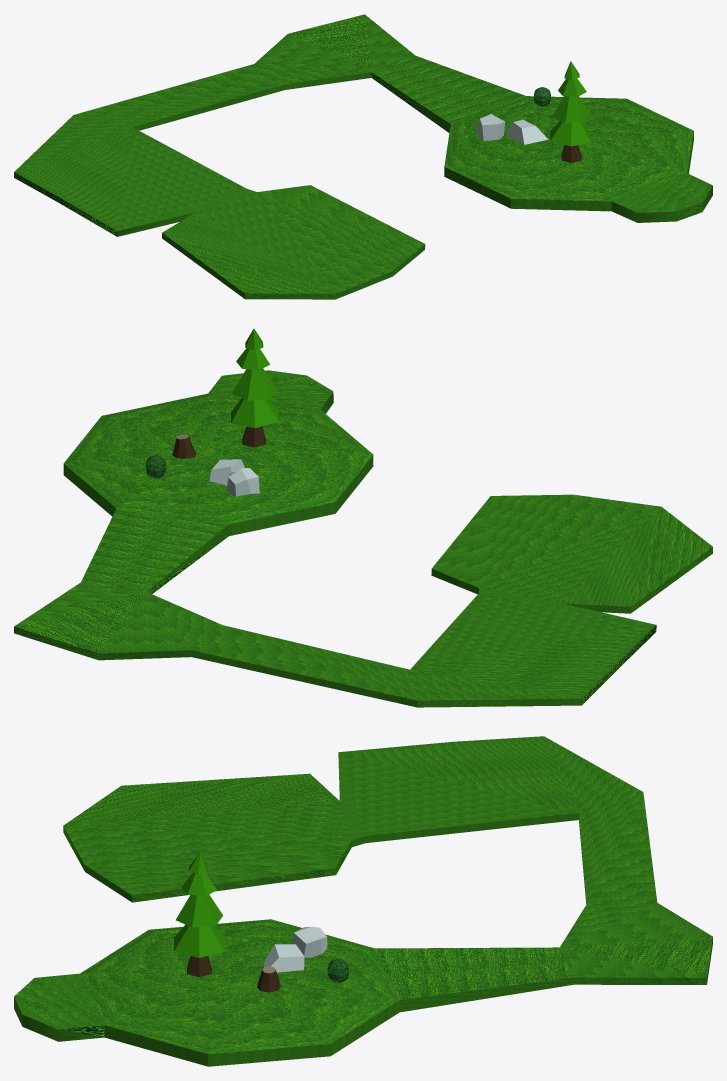
Rendered from tempmap.fbx.
3 renders of one model, top to bottom at view 1: azimuth 30°, elevation 25°; view 2: azimuth 150°, elevation 25°; view 3: azimuth 270°, elevation 25°, orthographic. The views are drawn at different scales.
Parts seen in each view (by area): view 1: pSphere1, pCylinder1, experiment_rock:pPlatonic1, pPlatonic1; view 2: pSphere1, pCylinder1, pPlatonic1, experiment_rock:pPlatonic1; view 3: pSphere1, pCylinder1, experiment_rock:pPlatonic1, pPlatonic1.
Part boxes in pixels (box(x1,y1,x2,y2)): pSphere1: box(14, 14, 712, 299); pCylinder1: box(550, 61, 591, 162); experiment_rock:pPlatonic1: box(506, 119, 548, 144); pPlatonic1: box(476, 114, 505, 140); pSphere1: box(14, 370, 712, 707); pCylinder1: box(231, 328, 278, 447); pPlatonic1: box(226, 468, 259, 496); experiment_rock:pPlatonic1: box(209, 459, 244, 485); pSphere1: box(14, 736, 712, 1066); pCylinder1: box(174, 851, 224, 976); experiment_rock:pPlatonic1: box(264, 944, 304, 972); pPlatonic1: box(292, 926, 327, 957).
Size of the model in its own units: 6838 by 1528 by 6157.
